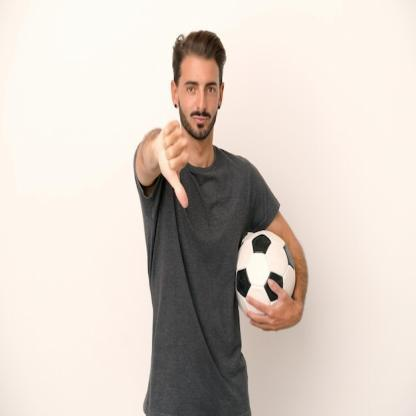thumb_down: (154, 116, 192, 212)
